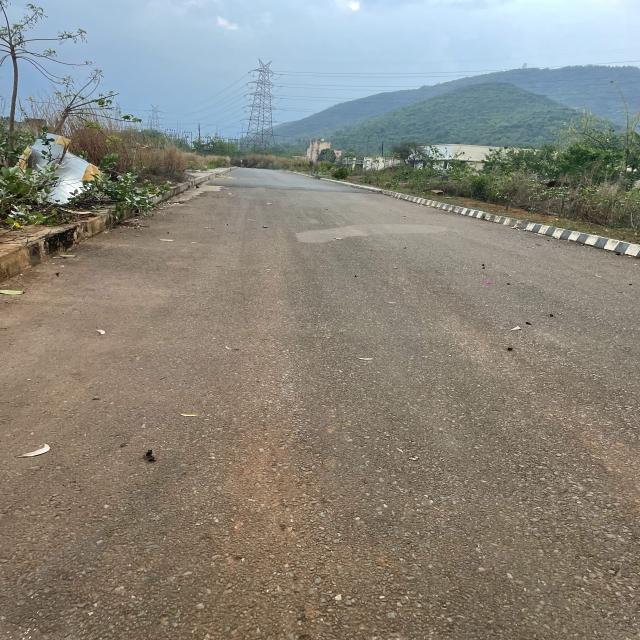D43: (193, 296, 403, 544)
